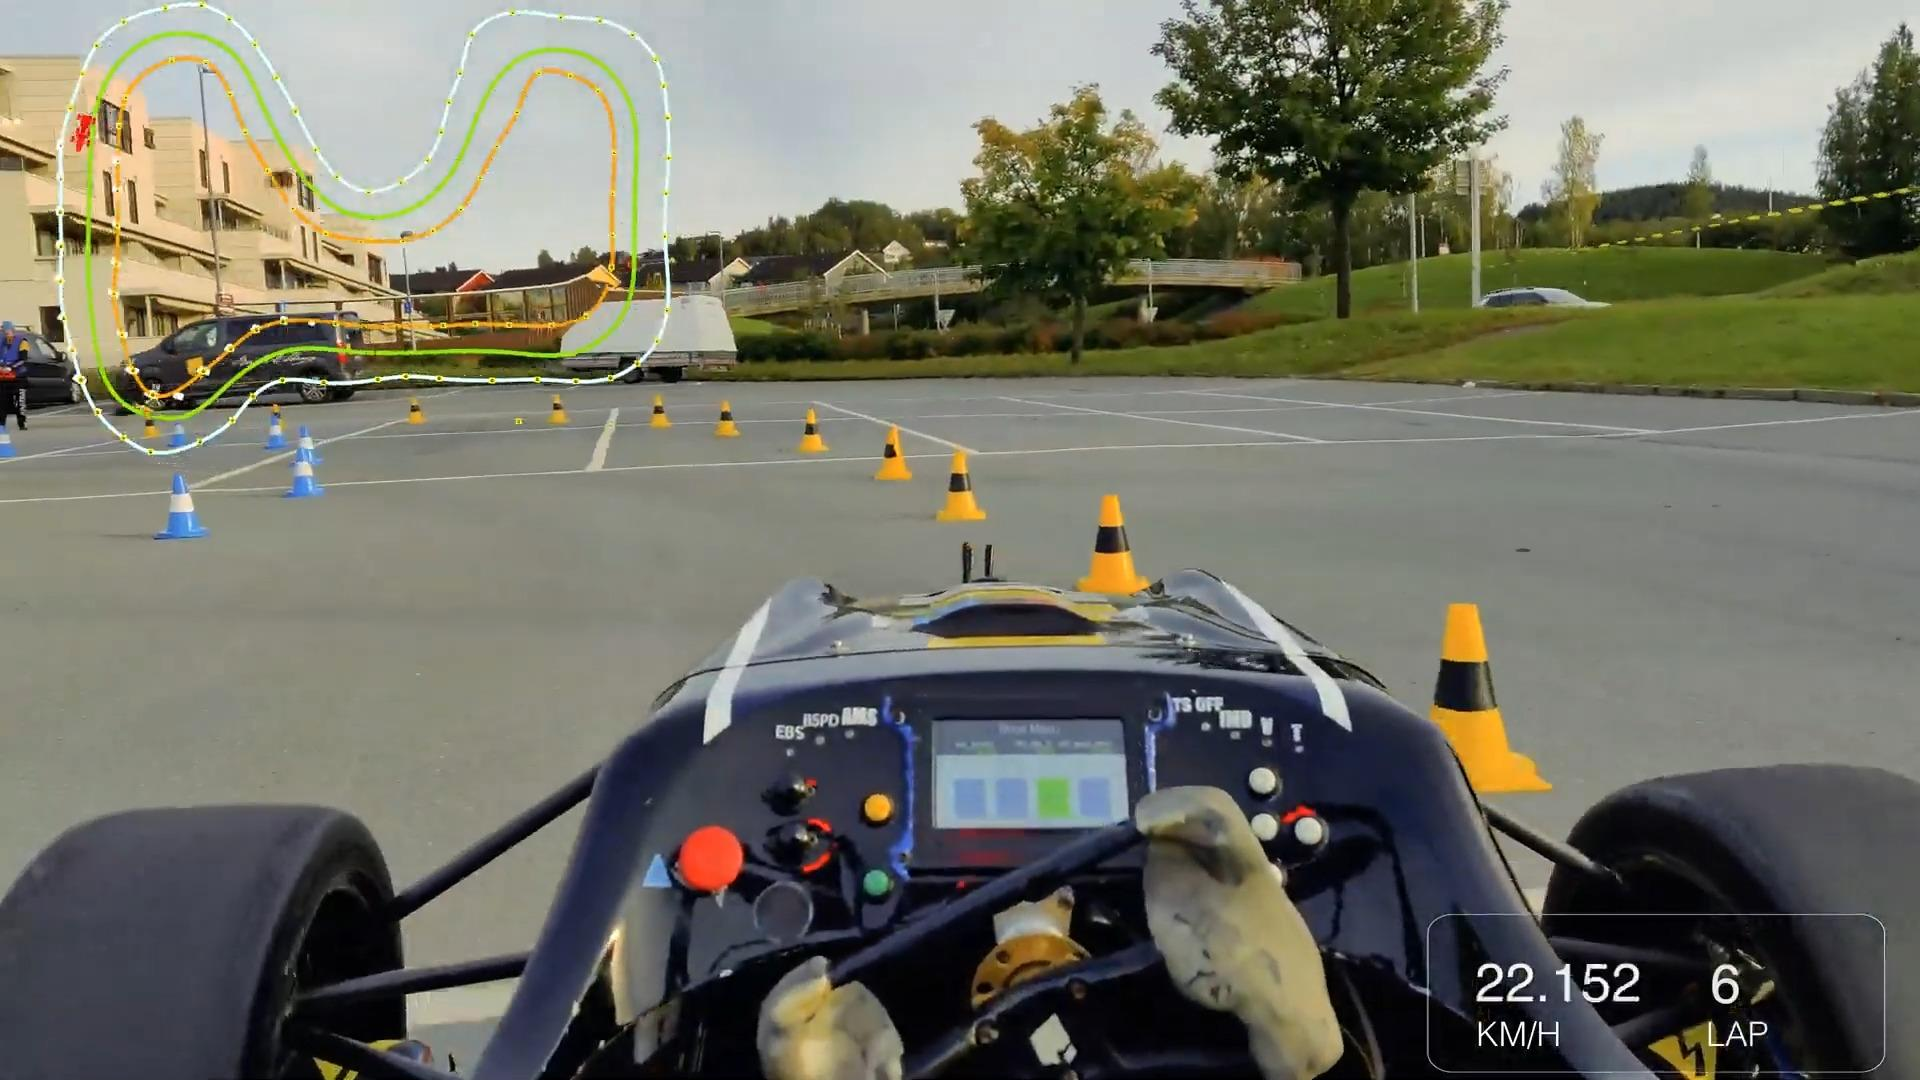blue_cone: (138, 454, 231, 558), (258, 407, 338, 506)
yellow_cone: (1403, 570, 1561, 818), (1077, 476, 1168, 620), (931, 433, 985, 521), (641, 389, 705, 452), (869, 414, 924, 485), (704, 382, 752, 439), (793, 393, 835, 455)
